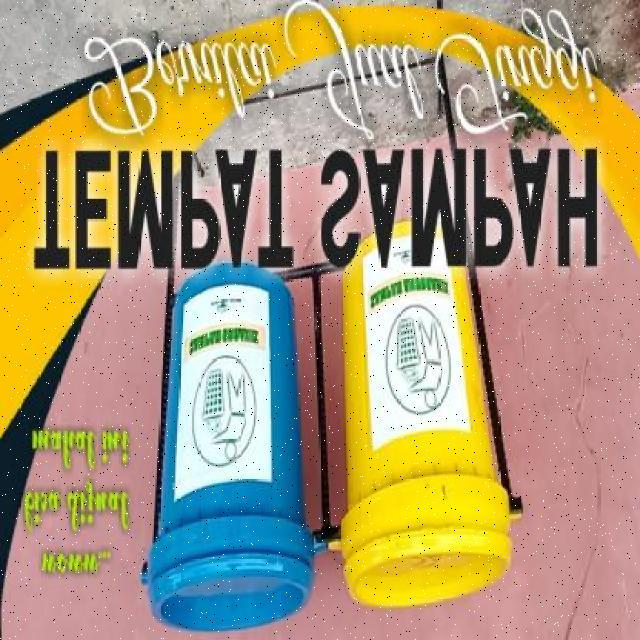garbage container: (330, 222, 521, 616), (138, 260, 321, 634)
